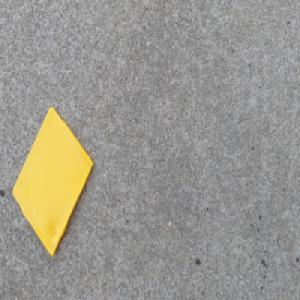PlasticPart: (10, 103, 94, 258)
